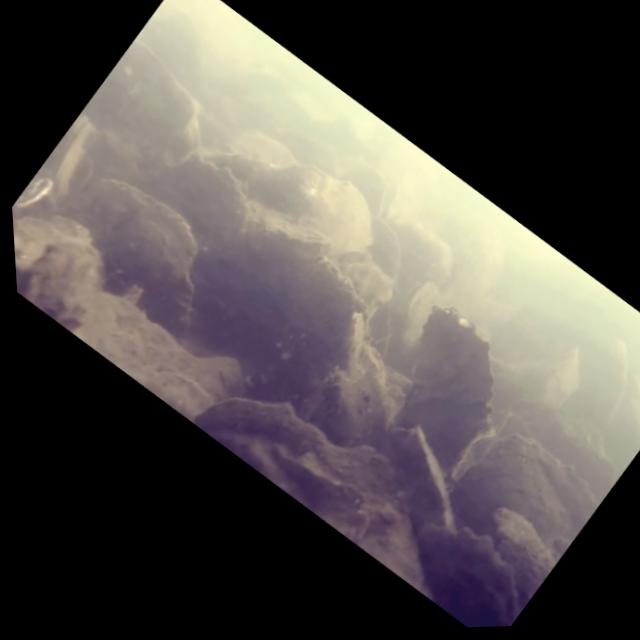Oyster-Closed: (453, 428, 597, 541), (273, 254, 377, 369), (395, 425, 455, 524), (50, 110, 96, 203), (256, 218, 338, 265), (399, 280, 441, 363)
Oyster-Indeterminate: (51, 170, 212, 349), (397, 300, 502, 481), (208, 152, 379, 253), (417, 521, 521, 627), (160, 146, 260, 244), (495, 509, 554, 588), (373, 218, 406, 279)
Oyster-Open: (343, 160, 401, 218)
